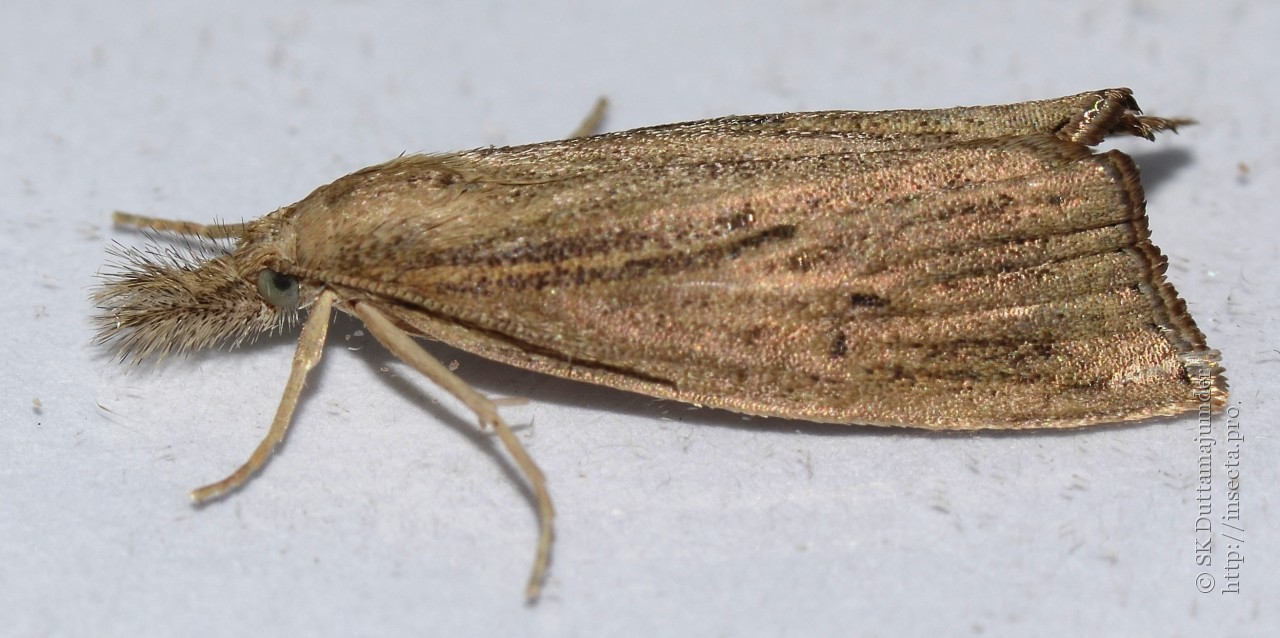Crambidae: (93, 76, 1239, 611)
